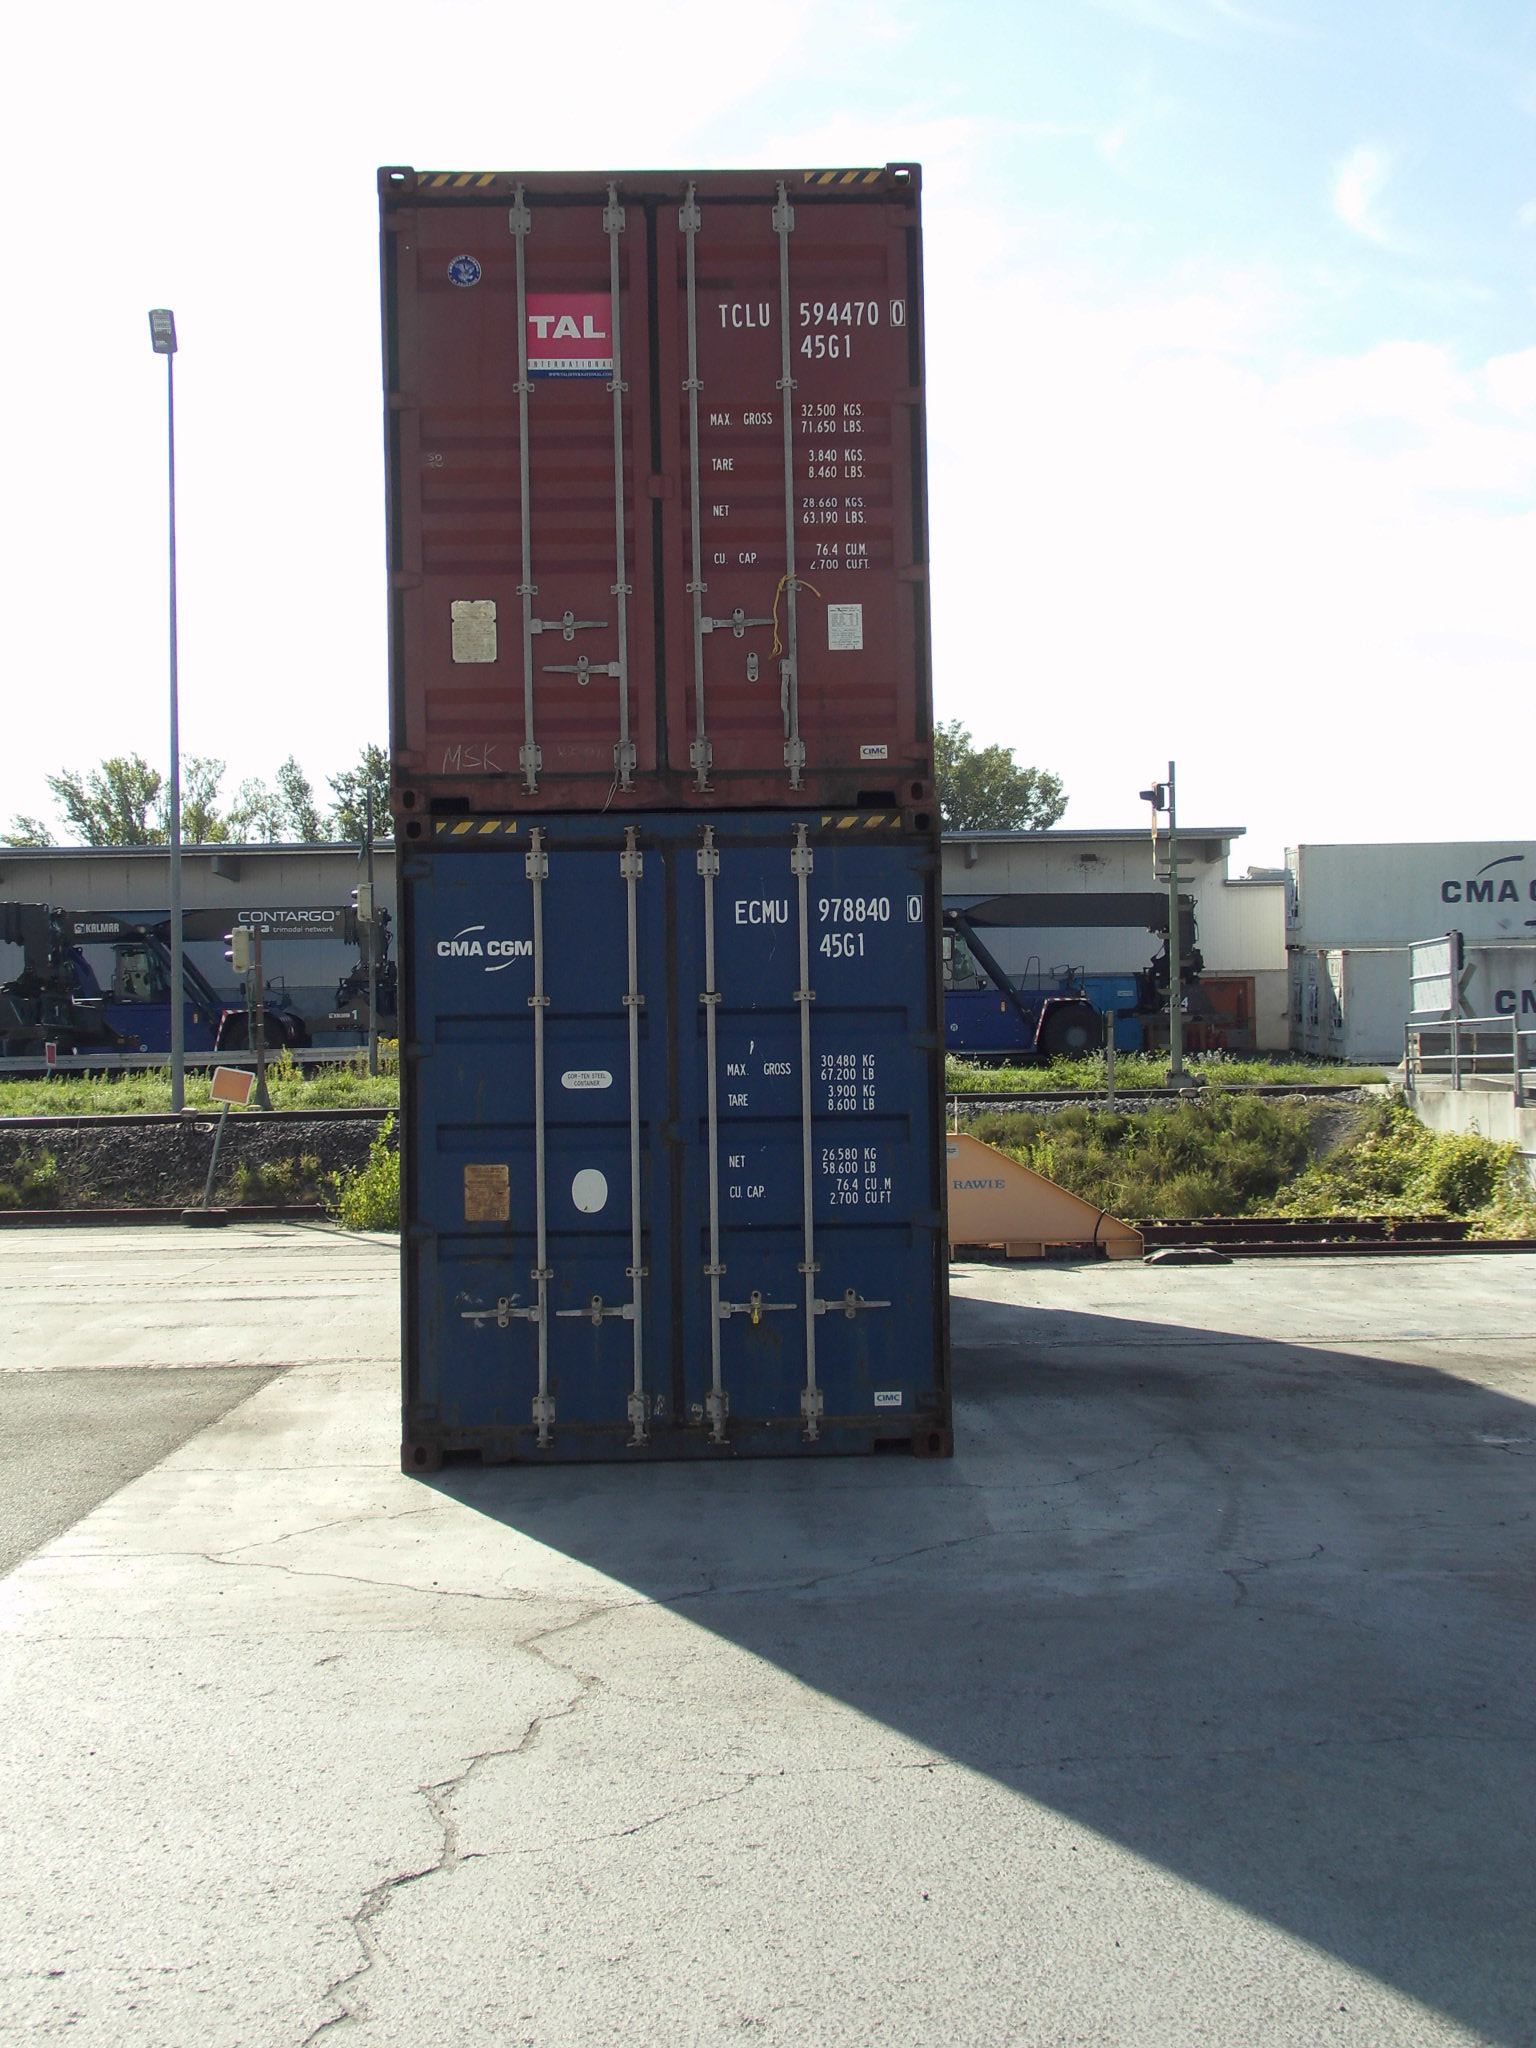container_door: (395, 819, 936, 1461), (387, 168, 923, 797)
